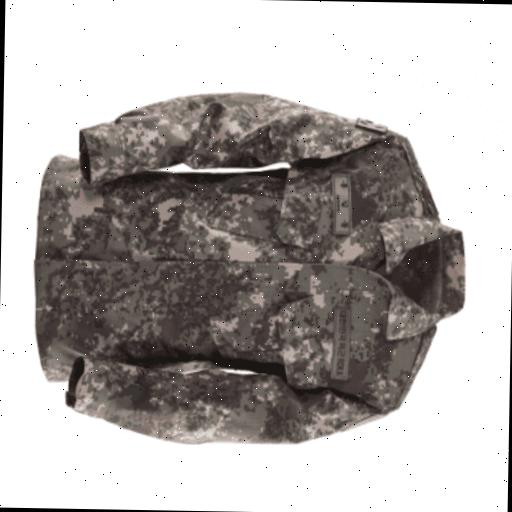korea army: (29, 88, 468, 451)
